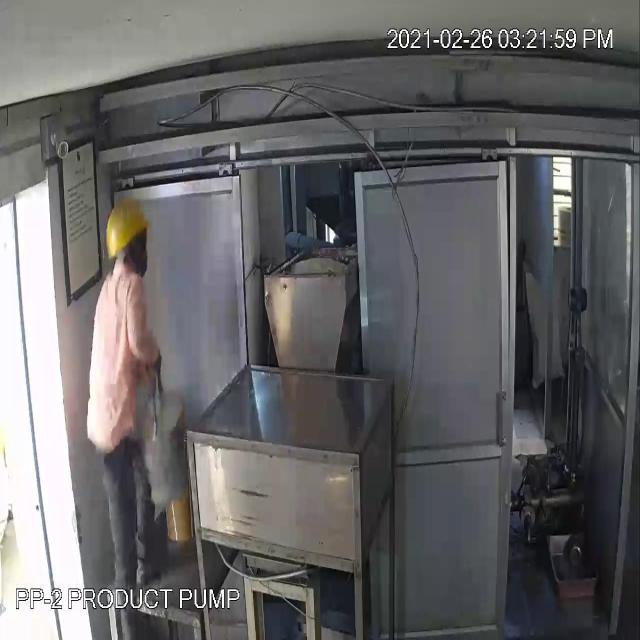helmet: (98, 188, 148, 258)
